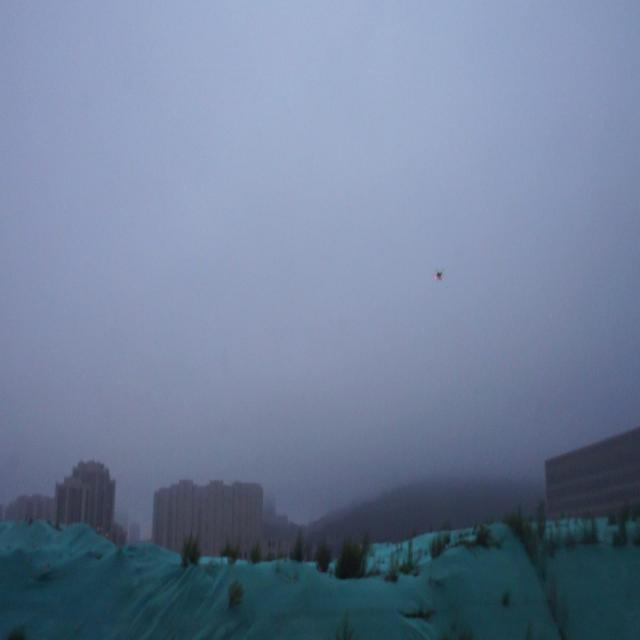UAV: (434, 270, 445, 280)
